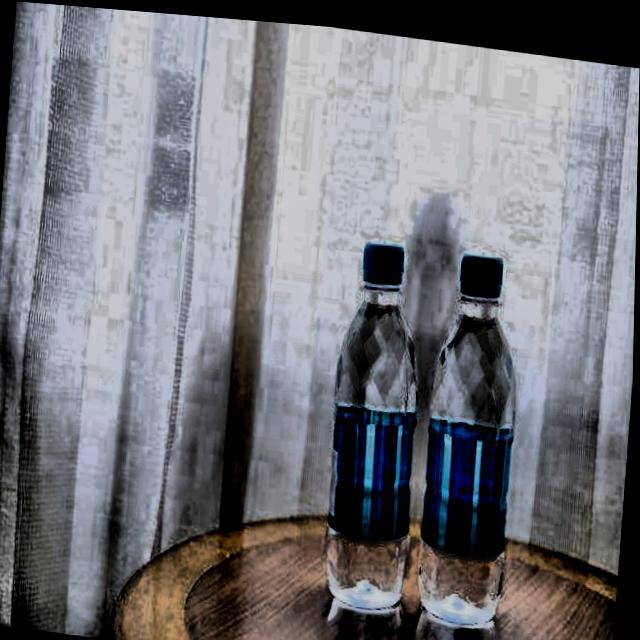Bottles: (396, 219, 544, 640), (310, 213, 441, 630)
